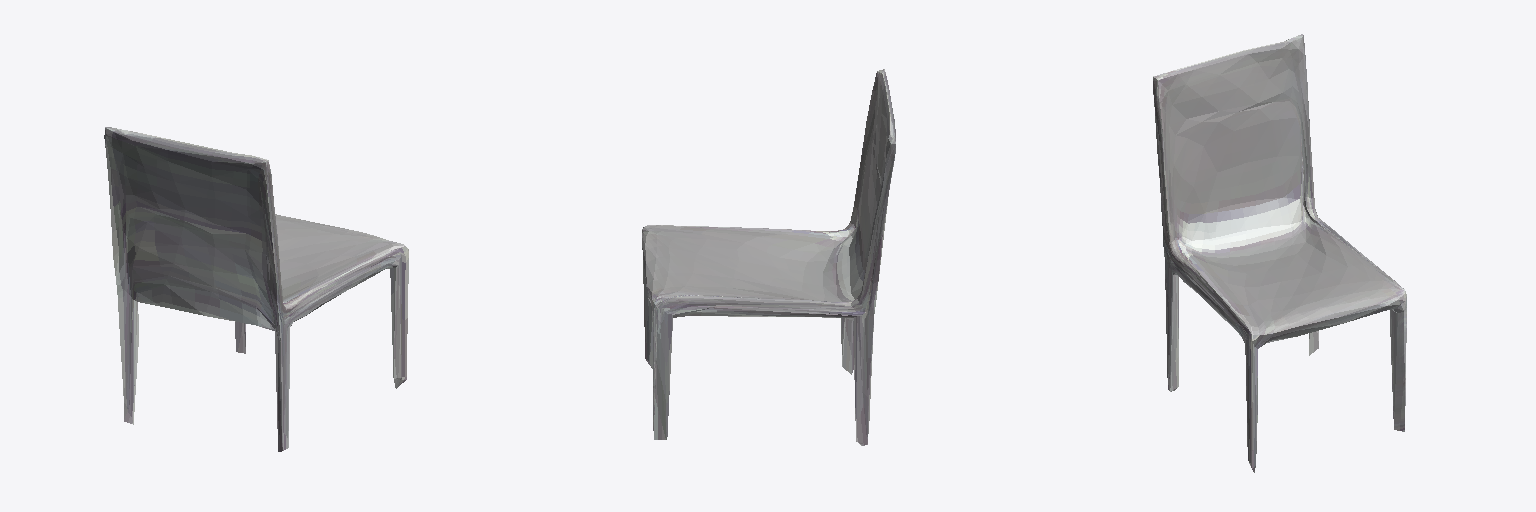
3 views of the same model, side by side, from view 1: azimuth 30°, elevation 25°; view 2: azimuth 150°, elevation 25°; view 3: azimuth 270°, elevation 25° (orthographic).
Bounding box in the file's own units: 0.939 × 1 × 0.7408.
1 materials, 1 textured.